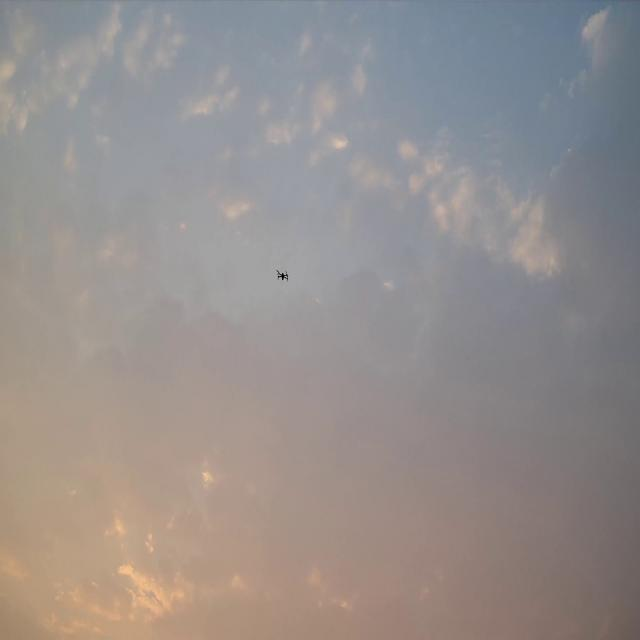UAV: (275, 268, 290, 284)
